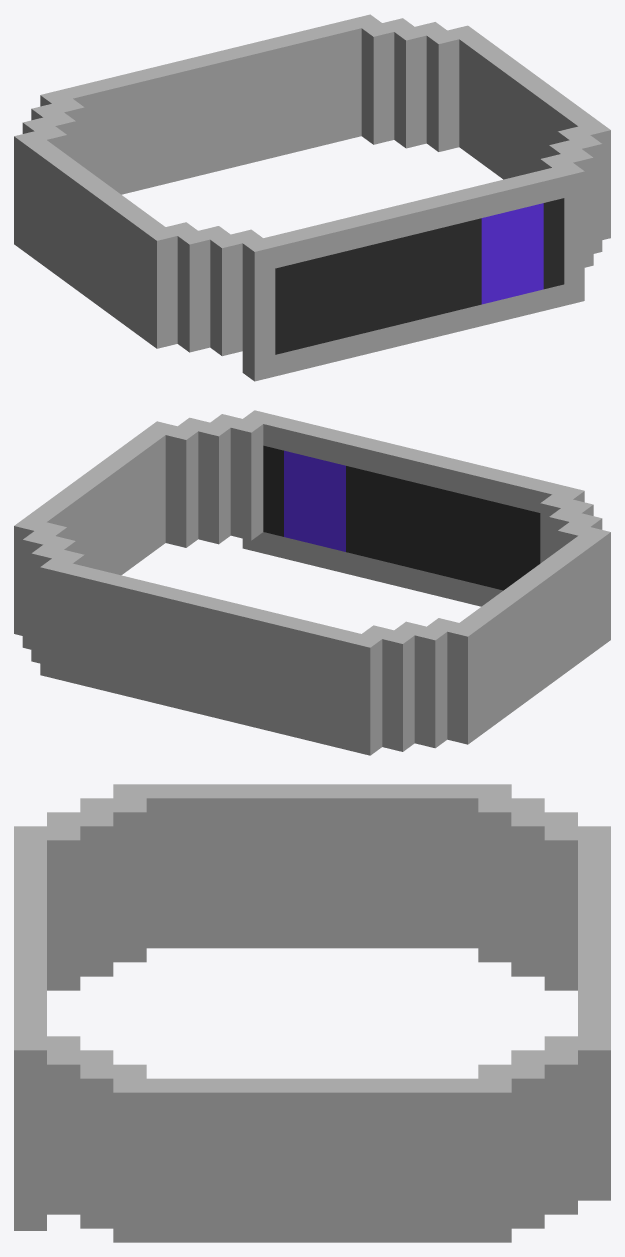
3 renders of one model, top to bottom at view 1: azimuth 30°, elevation 25°; view 2: azimuth 150°, elevation 25°; view 3: azimuth 270°, elevation 25°, orthographic. The views are drawn at different scales.
Visible parts, largest first — view 1: 66; view 2: 66; view 3: 66.
Part boxes in pixels (x1,y1,x2,y2): 66: (14,14,610,381); 66: (14,410,610,755); 66: (14,784,610,1242).
Bounding box in the file's own units: 2.2 × 0.6 × 1.8.
Materials: 1 (1 with a texture image).
